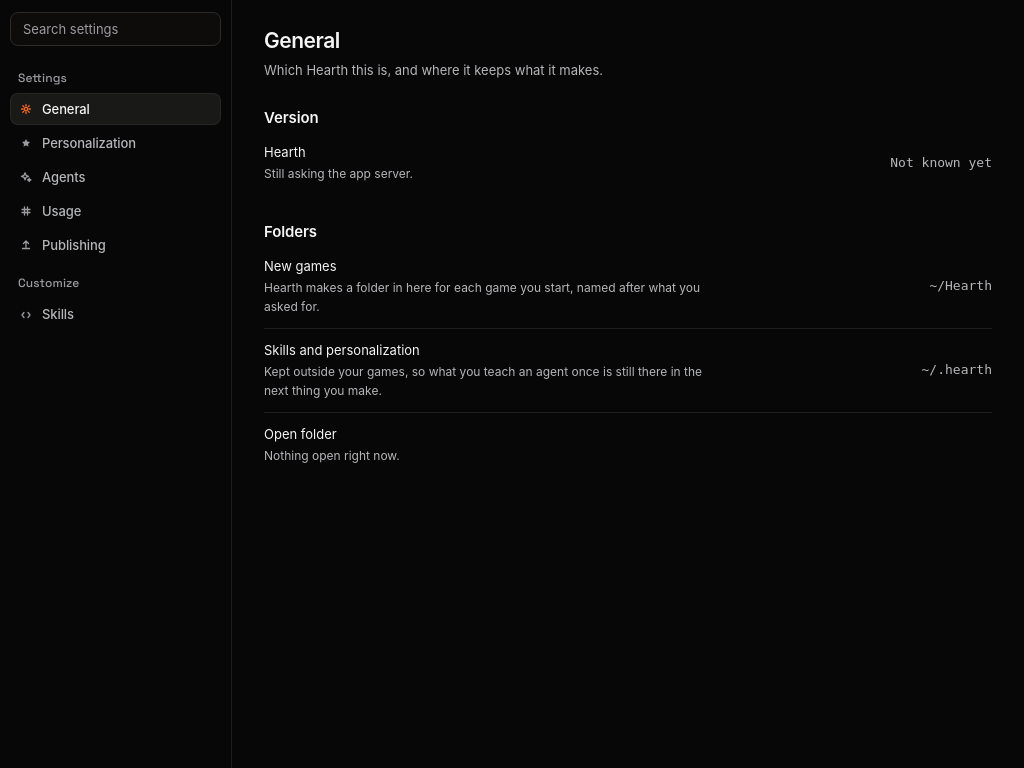
the panel › drops a heading whose panes all filtered out
Type "skill" into the search field labelled "Search settings" at [116, 29], box [10, 12, 221, 46]
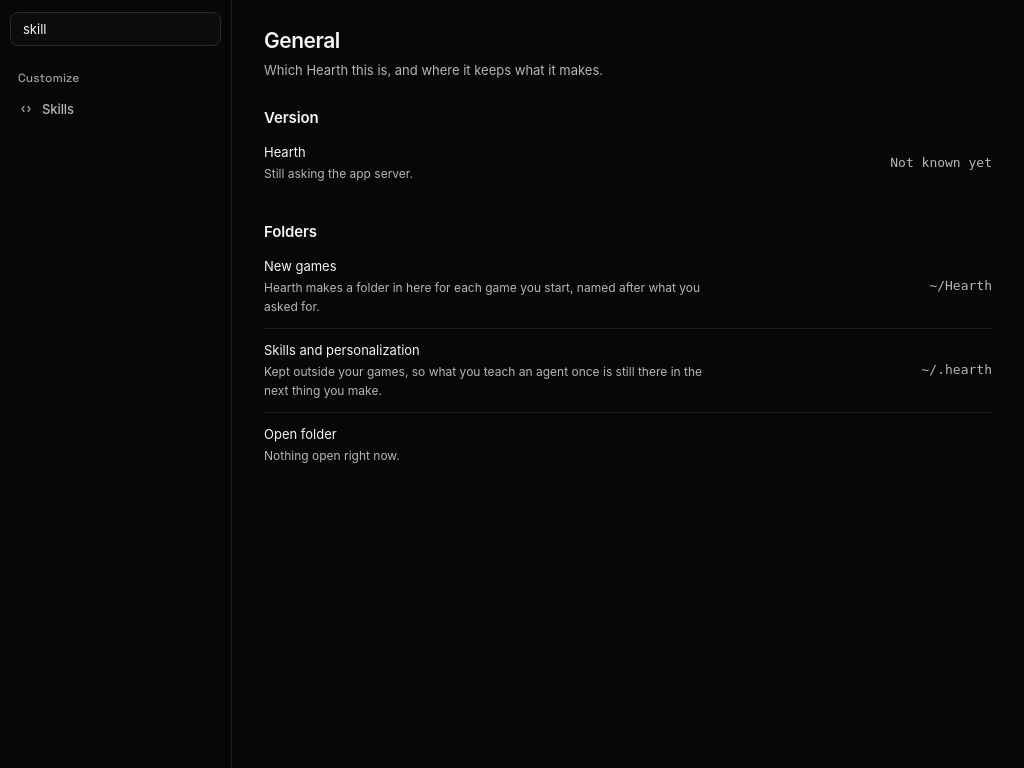
Expected: the list named "Customize" is shown, [10, 93, 221, 125]
Expected: the heading "Settings" is gone
